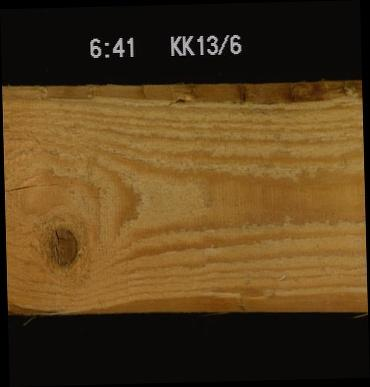dry_knot: (42, 222, 79, 265)
split: (4, 178, 68, 198)
wave: (38, 82, 361, 106), (13, 299, 266, 322)
